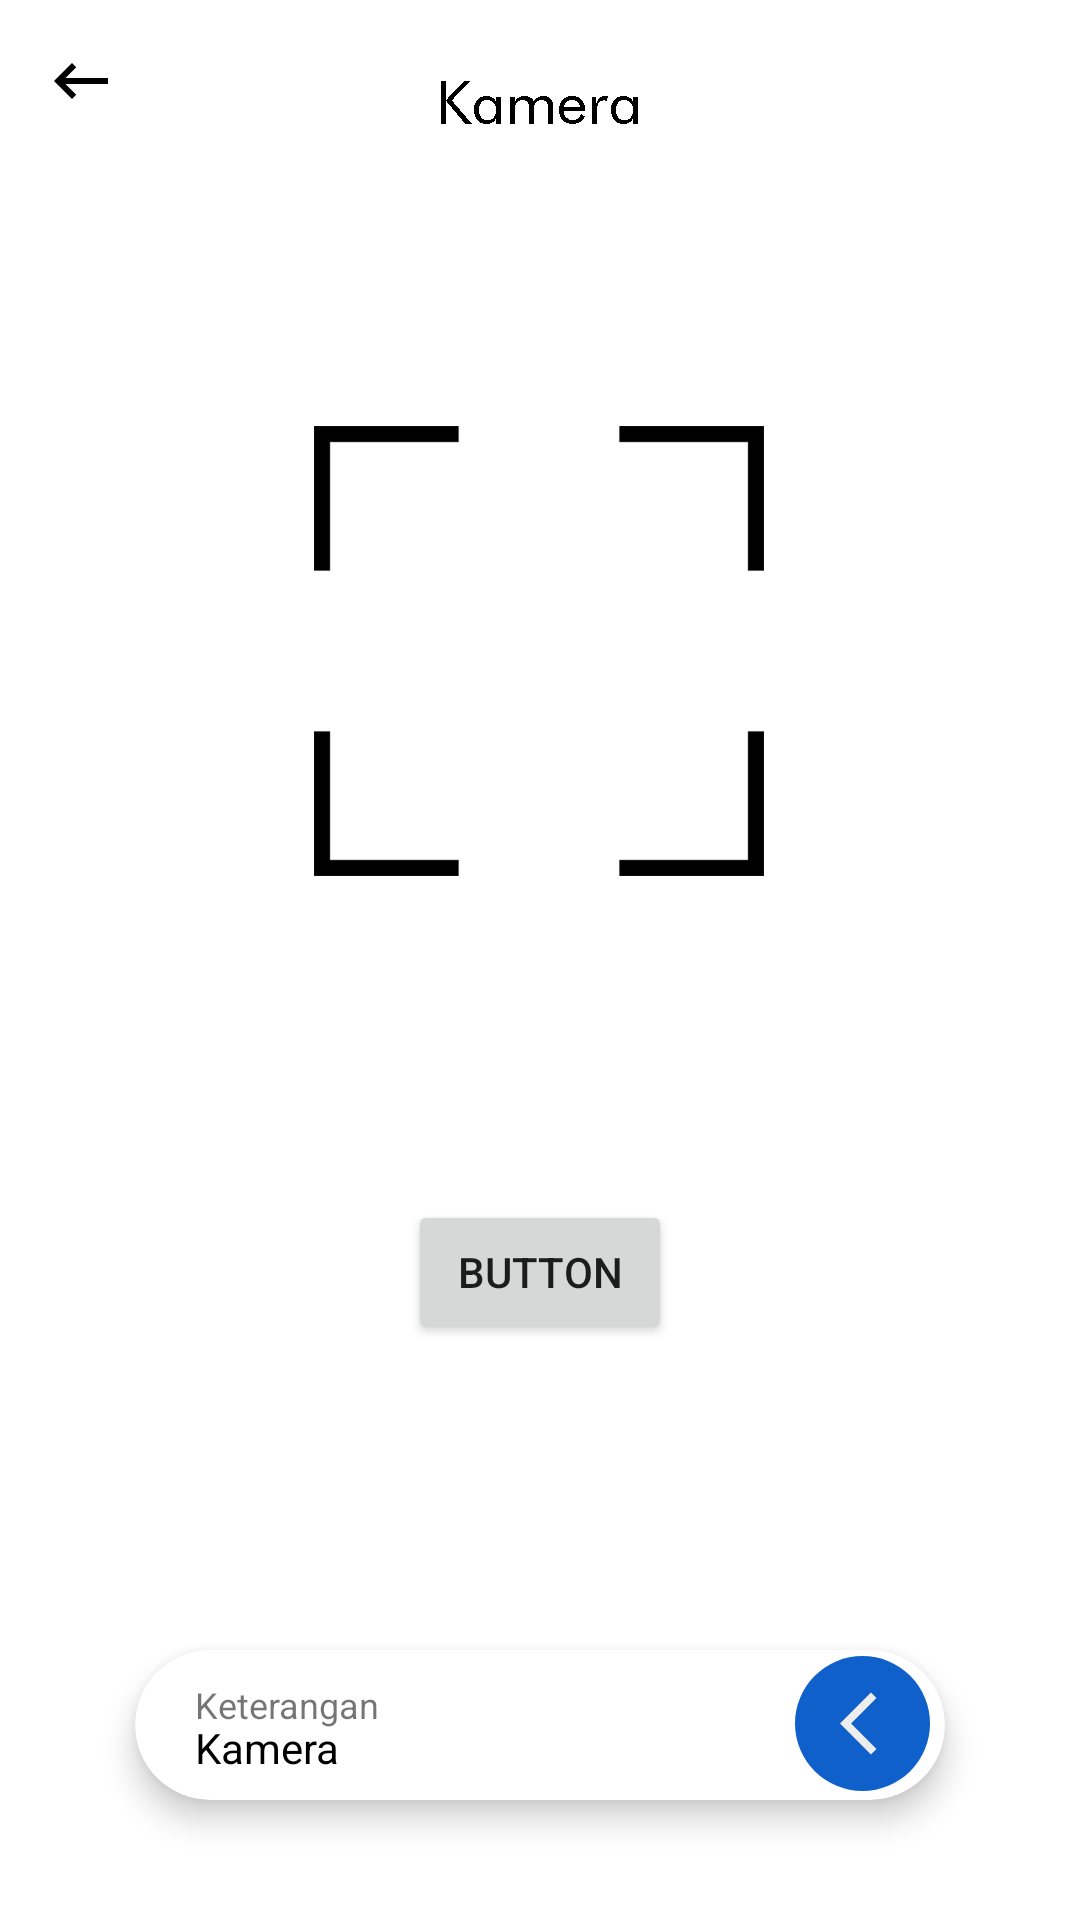

Icons on this 1080*1920 Android screen, each with its box as (x1, y1, x2, y2):
kembali hitam: (54, 63, 108, 99)
